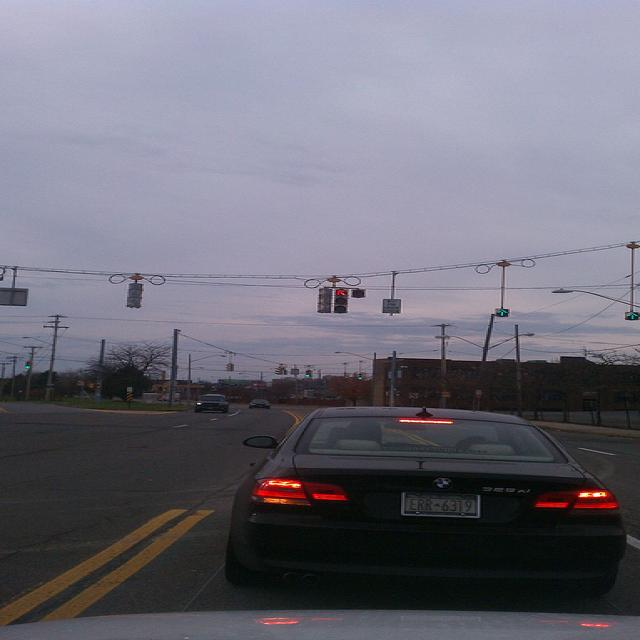Vehicle: (222, 408, 624, 600), (2, 613, 640, 634), (196, 394, 228, 413), (249, 399, 271, 409)
